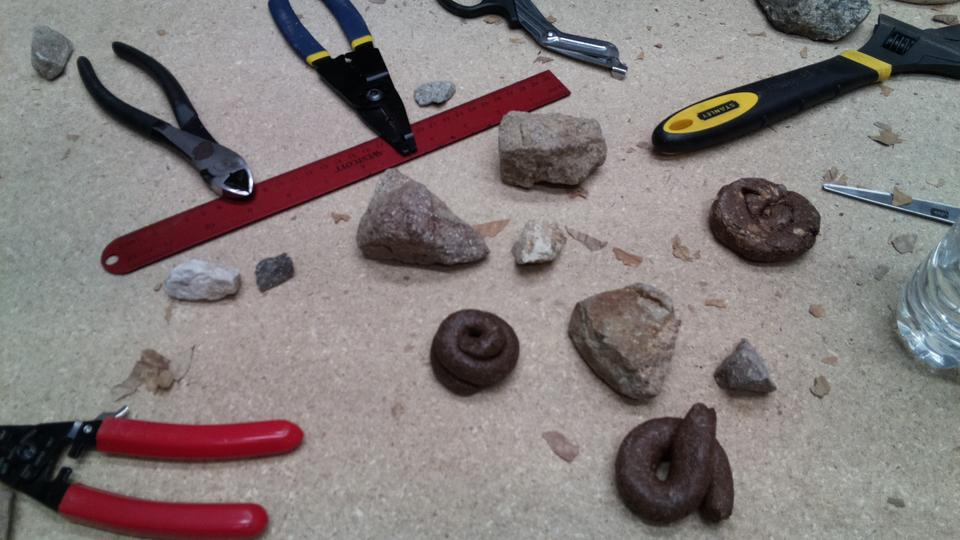poop: (612, 400, 739, 526), (708, 174, 825, 270), (427, 304, 525, 401)
